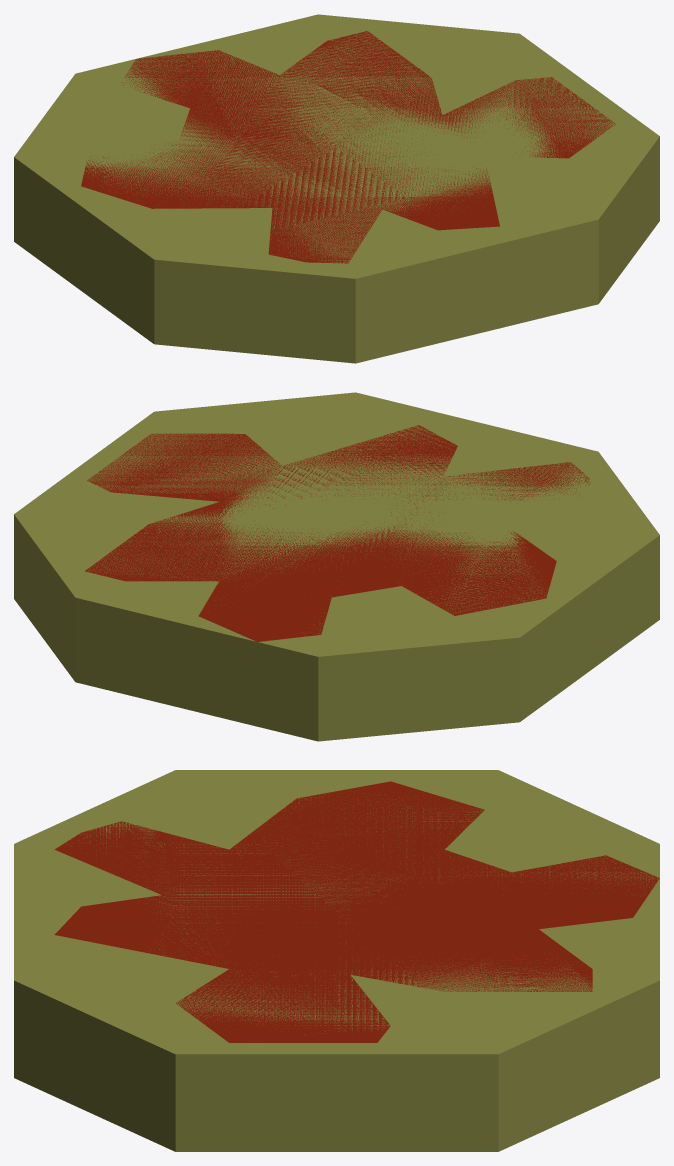
File: inv_incomplete_pizza.obj
3 views of the same model, one above another, from view 1: azimuth 30°, elevation 25°; view 2: azimuth 150°, elevation 25°; view 3: azimuth 270°, elevation 25° (orthographic). The views are drawn at different scales.
Bounding box in the file's own units: 0.3906 × 0.0625 × 0.375.
